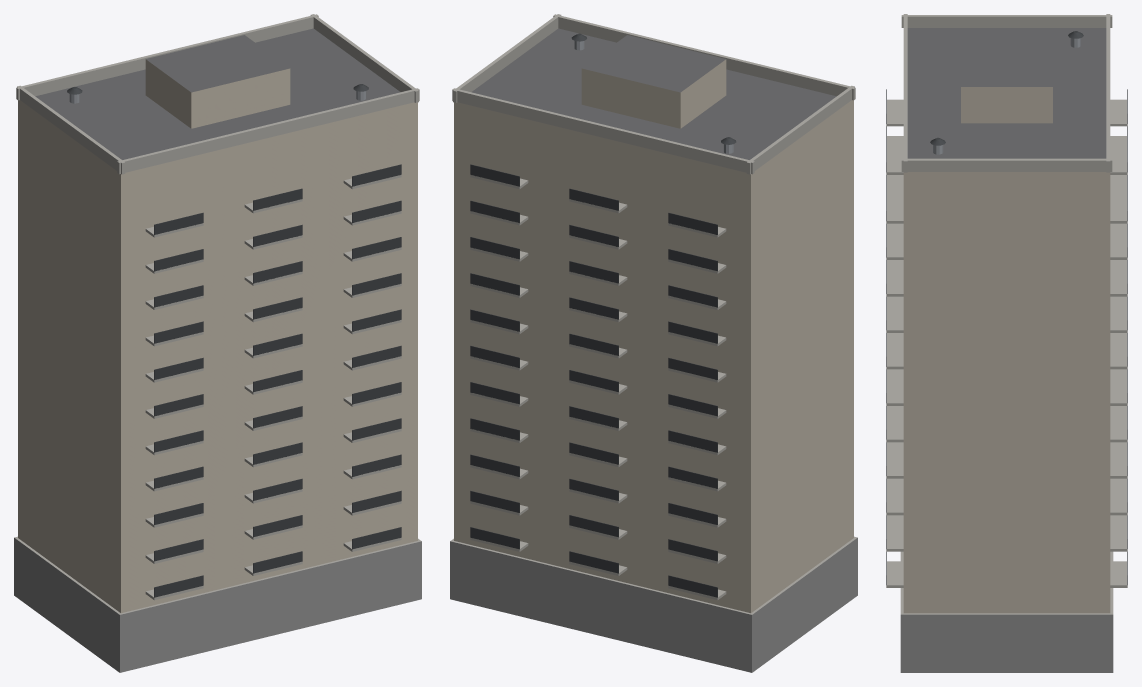
File: building_09.glb
The picture shows the model from 3 angles, left to right: view 1: azimuth 30°, elevation 25°; view 2: azimuth 150°, elevation 25°; view 3: azimuth 270°, elevation 25°; orthographic projection.
Visible parts, largest first — view 1: Render; view 2: Render; view 3: Render.
Part boxes in pixels (x1,y1,x2,y2): Render: (14,14,421,672); Render: (450,14,857,672); Render: (886,14,1127,672).
Size of the model in its own units: 30.5 by 51.5 by 21.
